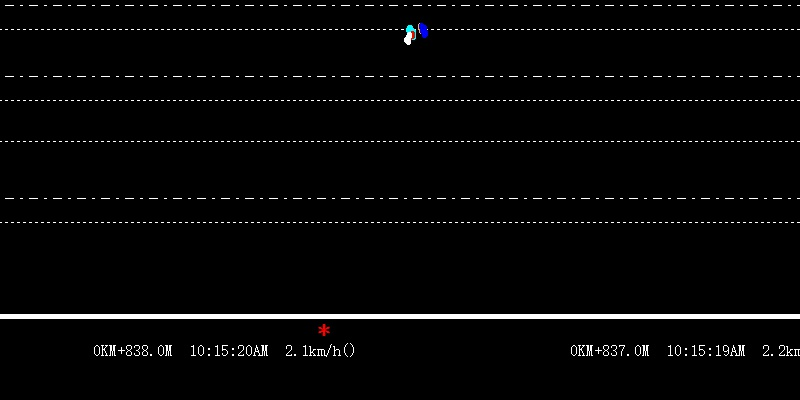face_s: (403, 24, 416, 47), (417, 22, 430, 42)
star: (316, 321, 330, 339)
